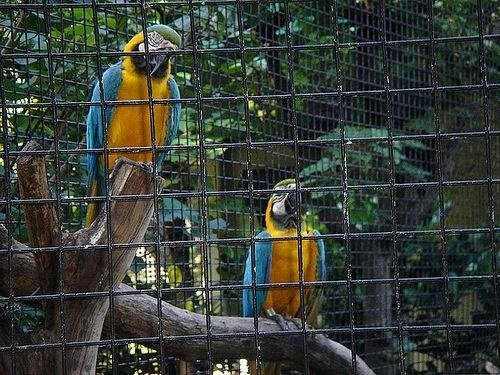bird: (82, 23, 185, 233), (242, 179, 329, 333)
